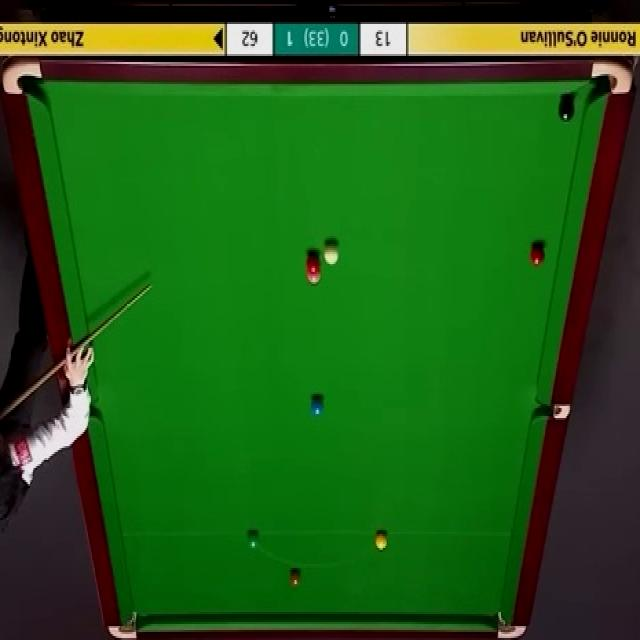black-ball: (560, 98, 575, 121)
blue-ball: (310, 397, 324, 418)
brown-ball: (289, 566, 302, 588)
green-ball: (247, 530, 260, 551)
pink-ball: (306, 274, 323, 284)
red-ball: (529, 242, 546, 267), (307, 251, 321, 272)
white-ball: (322, 245, 341, 263)
yellow-ball: (375, 530, 387, 550)
